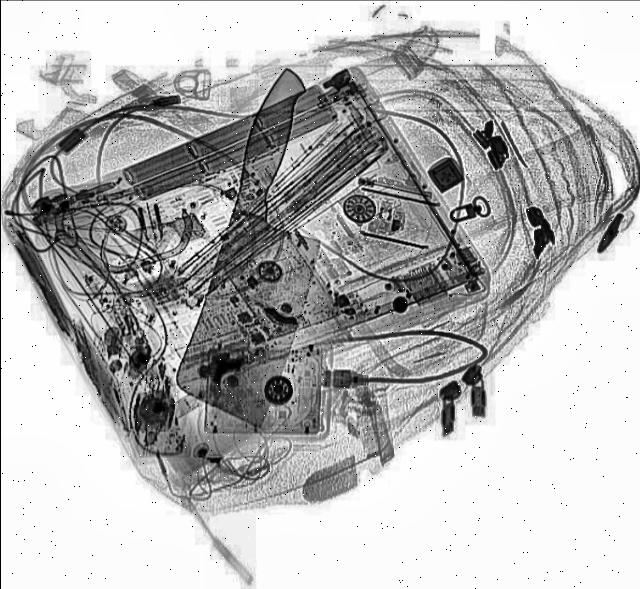Knife: (162, 66, 370, 430)
